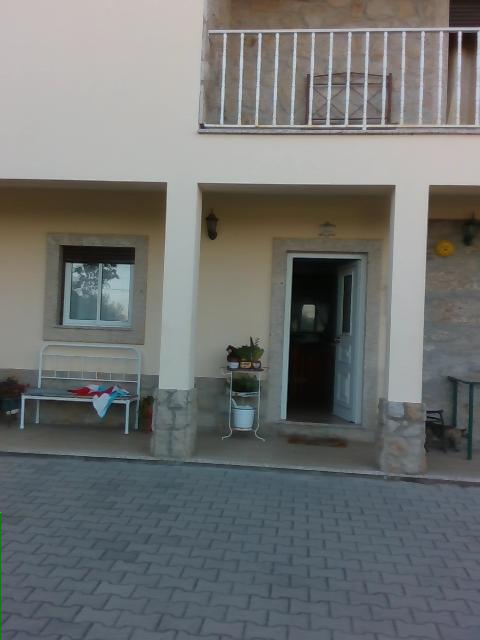open_door: (277, 250, 369, 425)
